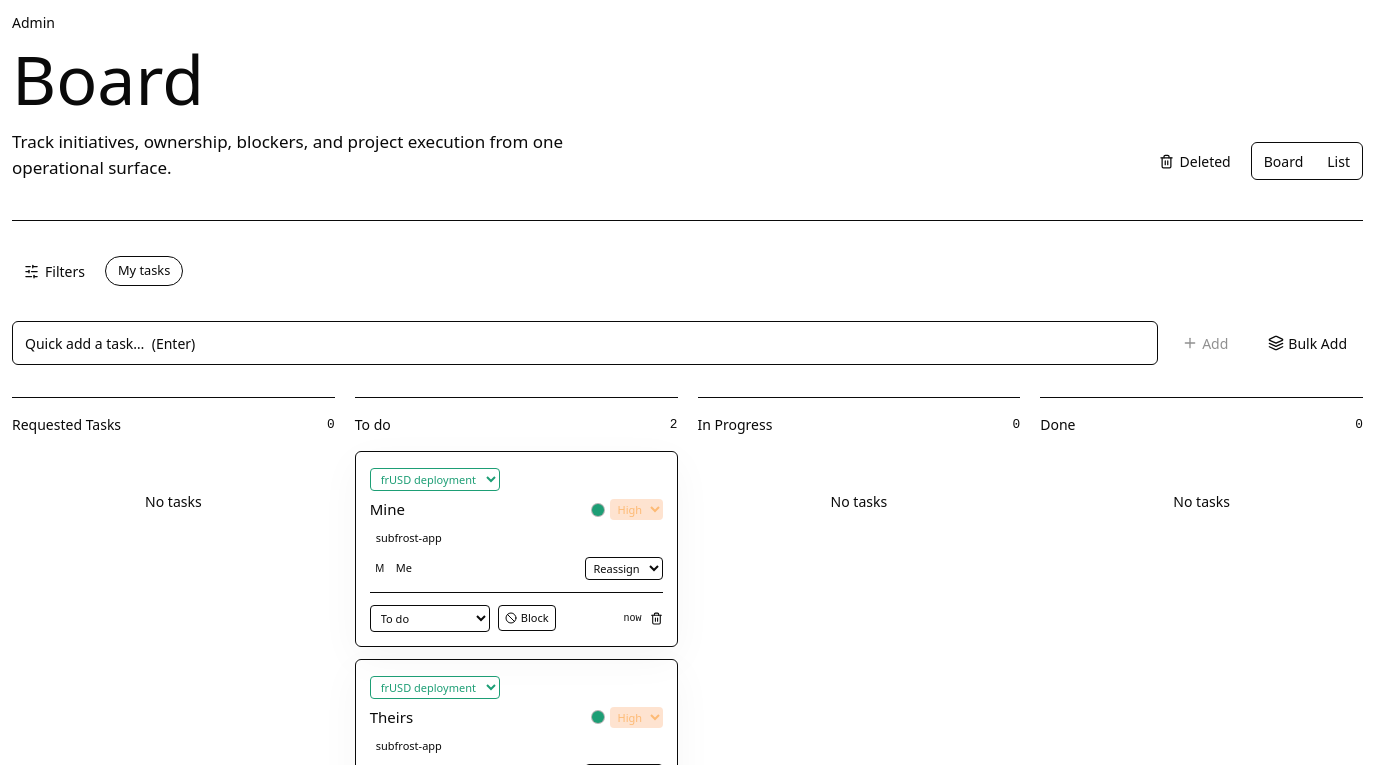
Test: the My tasks quick toggle filters to the current user
The width and height of the screenshot is (1378, 765).
Step 1. Click the button "My tasks" → click(144, 271), box [105,256,183,286]
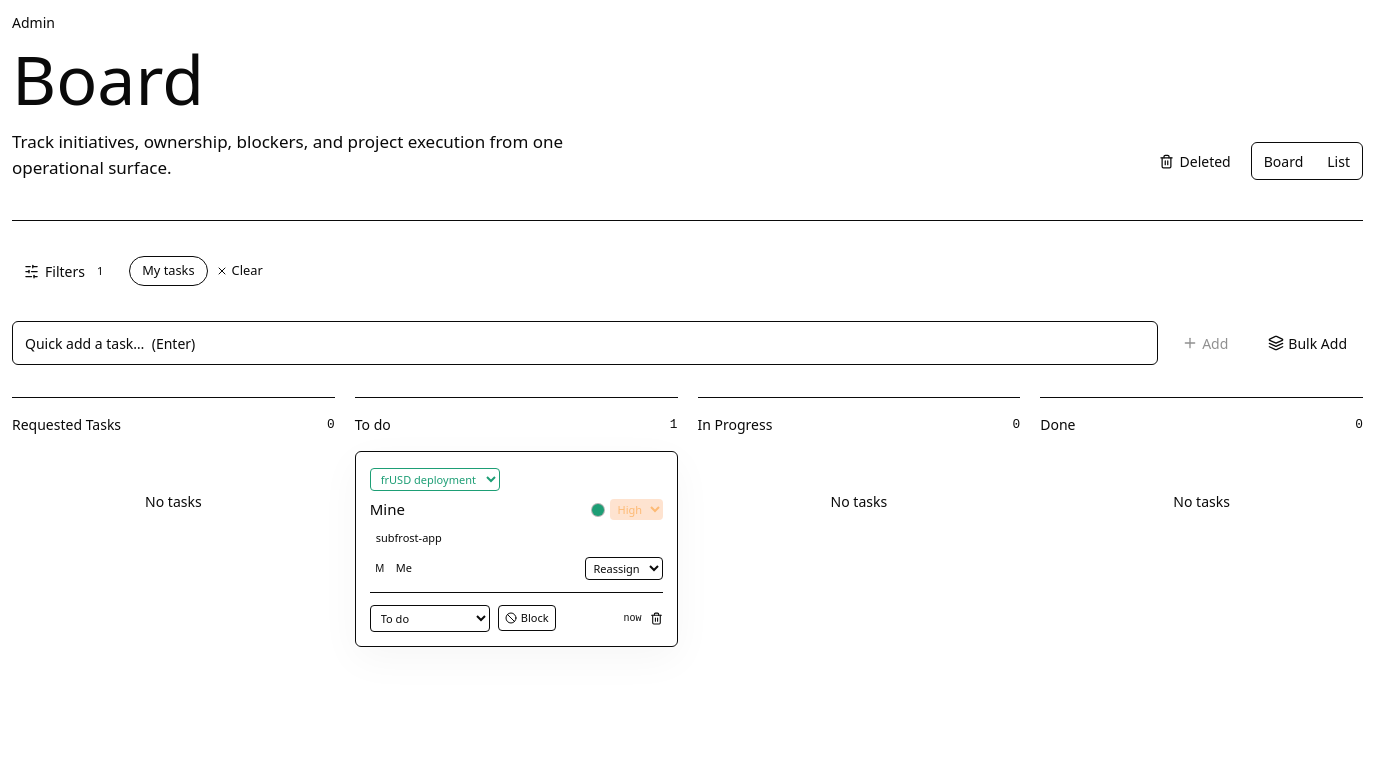
Expected: the button "Mine" is shown, [370,499,405,520]
Expected: the button "Theirs" is gone
